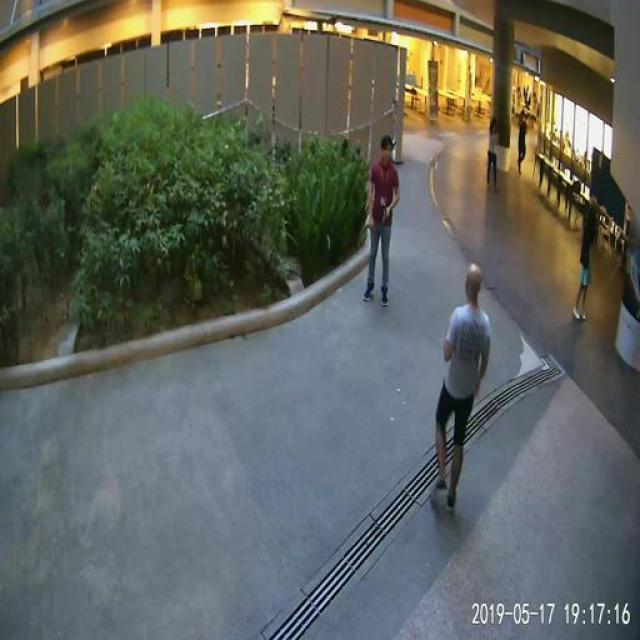Gun: (362, 192, 390, 248)
